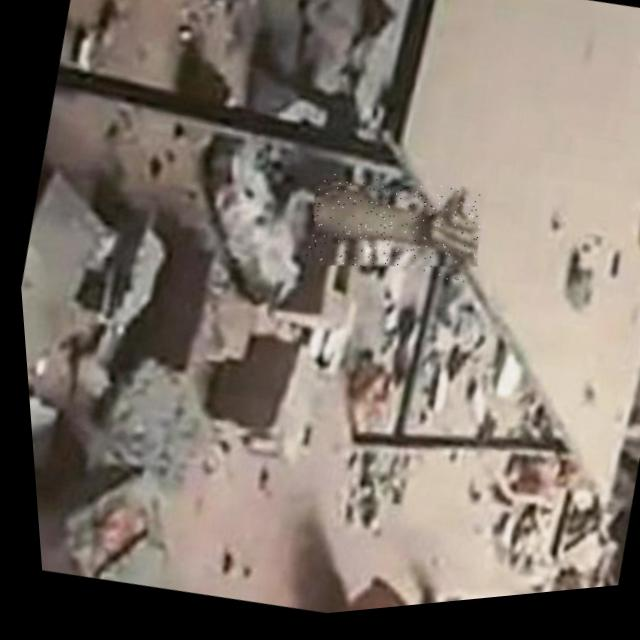Person in Rubble: (294, 161, 488, 305)
